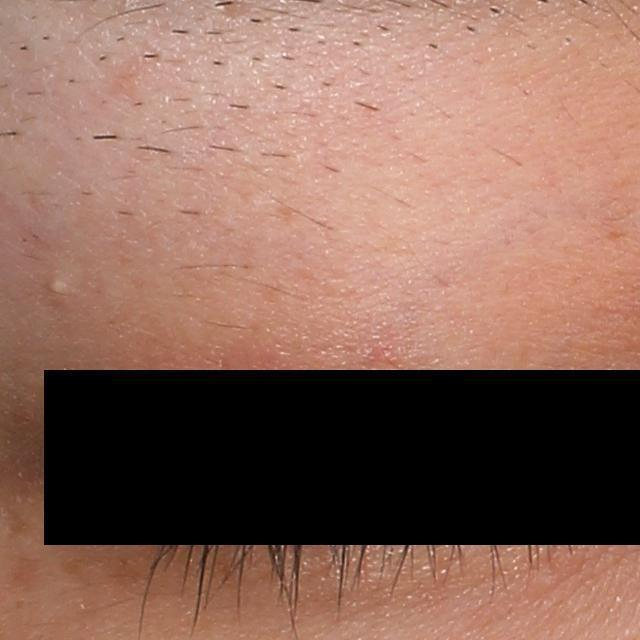comedo: (47, 269, 74, 299)
melasma: (53, 545, 157, 599), (6, 555, 49, 594)
